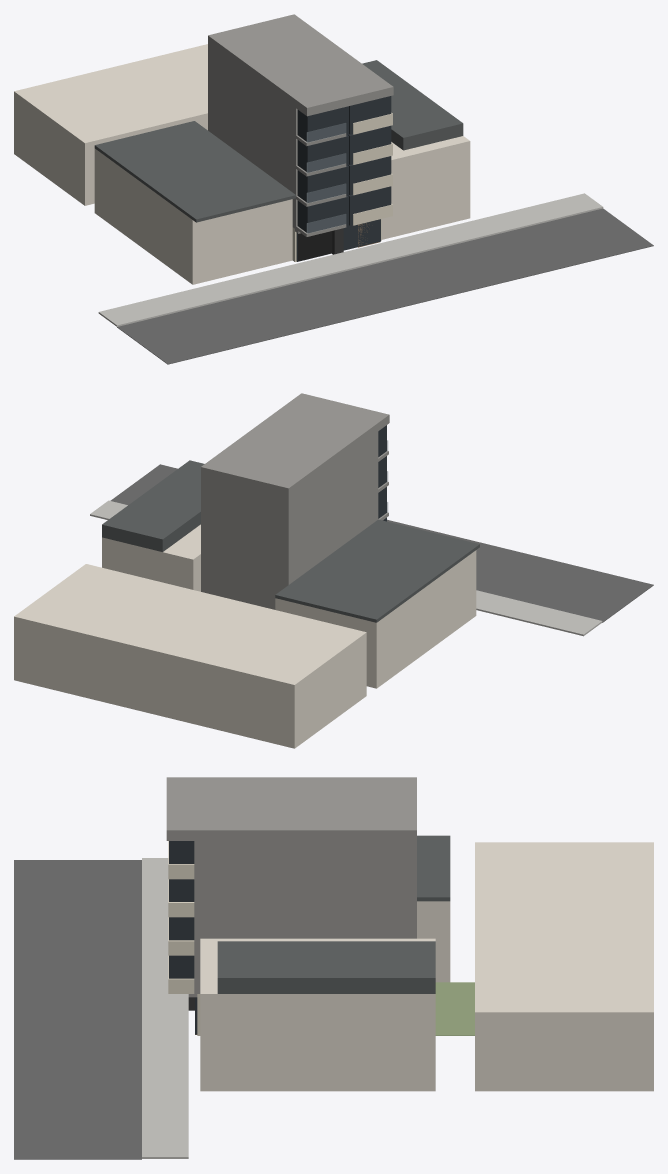
File: volumetria.glb
3 views of the same model, one above another, from view 1: azimuth 30°, elevation 25°; view 2: azimuth 150°, elevation 25°; view 3: azimuth 270°, elevation 25° (orthographic). The views are drawn at different scales.
Parts seen in each view (by area): view 1: Calzada, Vecinos_Izquierda, Vecinos_Fondo, Vecinos_Derecha, Techo_Remate, Veredas, Piso_03, Piso_04, Piso_02, Unidad_1A, Unidad_2A, Unidad_3A (+8 smaller); view 2: Vecinos_Fondo, Vecinos_Izquierda, Techo_Remate, Vecinos_Derecha, Calzada, Piso_03, Piso_04, Piso_02, Veredas, Piso_01; view 3: Vecinos_Fondo, Calzada, Vecinos_Derecha, Techo_Remate, Veredas, Piso_03, Piso_04, Piso_02, Vecinos_Izquierda, Parque_Patio, Piso_01, Unidad_1B (+3 smaller).
Boxes of the visible parts, bbox=[...] form: Calzada: bbox=[117, 208, 653, 364]; Vecinos_Izquierda: bbox=[94, 121, 295, 284]; Vecinos_Fondo: bbox=[14, 44, 207, 205]; Vecinos_Derecha: bbox=[362, 60, 470, 239]; Techo_Remate: bbox=[208, 14, 393, 116]; Veredas: bbox=[98, 193, 603, 326]; Piso_03: bbox=[208, 74, 392, 176]; Piso_04: bbox=[208, 44, 392, 146]; Piso_02: bbox=[208, 104, 392, 206]; Unidad_1A: bbox=[297, 196, 348, 233]; Unidad_2A: bbox=[297, 165, 348, 202]; Unidad_3A: bbox=[297, 135, 348, 172]; Vecinos_Fondo: bbox=[14, 564, 366, 748]; Vecinos_Izquierda: bbox=[275, 519, 479, 688]; Techo_Remate: bbox=[201, 393, 389, 496]; Vecinos_Derecha: bbox=[102, 460, 204, 591]; Calzada: bbox=[110, 464, 653, 622]; Piso_03: bbox=[201, 462, 388, 558]; Piso_04: bbox=[201, 431, 388, 527]; Piso_02: bbox=[201, 493, 388, 588]; Veredas: bbox=[90, 500, 602, 636]; Piso_01: bbox=[201, 568, 283, 609]; Vecinos_Fondo: bbox=[475, 842, 653, 1091]; Calzada: bbox=[14, 860, 141, 1159]; Vecinos_Derecha: bbox=[200, 938, 435, 1091]; Techo_Remate: bbox=[166, 777, 416, 840]; Veredas: bbox=[142, 858, 188, 1158]; Piso_03: bbox=[168, 879, 416, 917]; Piso_04: bbox=[168, 841, 416, 879]; Piso_02: bbox=[168, 917, 416, 955]; Vecinos_Izquierda: bbox=[417, 835, 450, 982]; Parque_Patio: bbox=[435, 982, 474, 1035]; Piso_01: bbox=[168, 955, 200, 993]; Unidad_1B: bbox=[169, 955, 194, 978].
Bounding box in the file's own units: 48.66 × 15.65 × 44.
